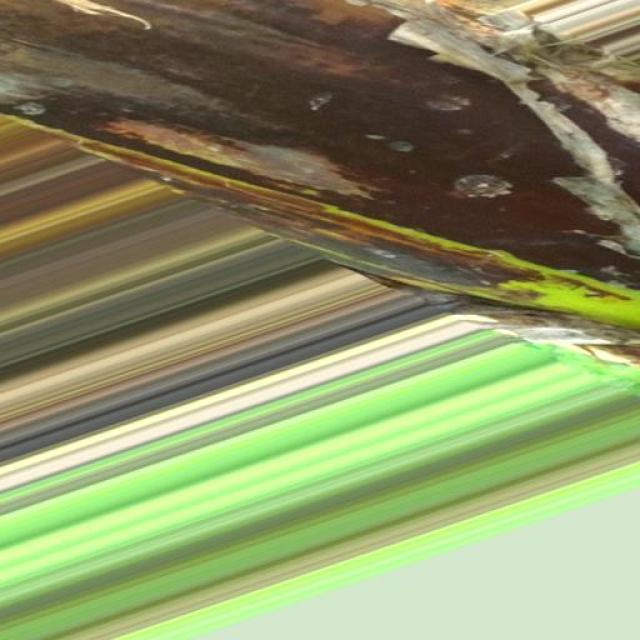Anthracnose: (7, 0, 640, 369)
